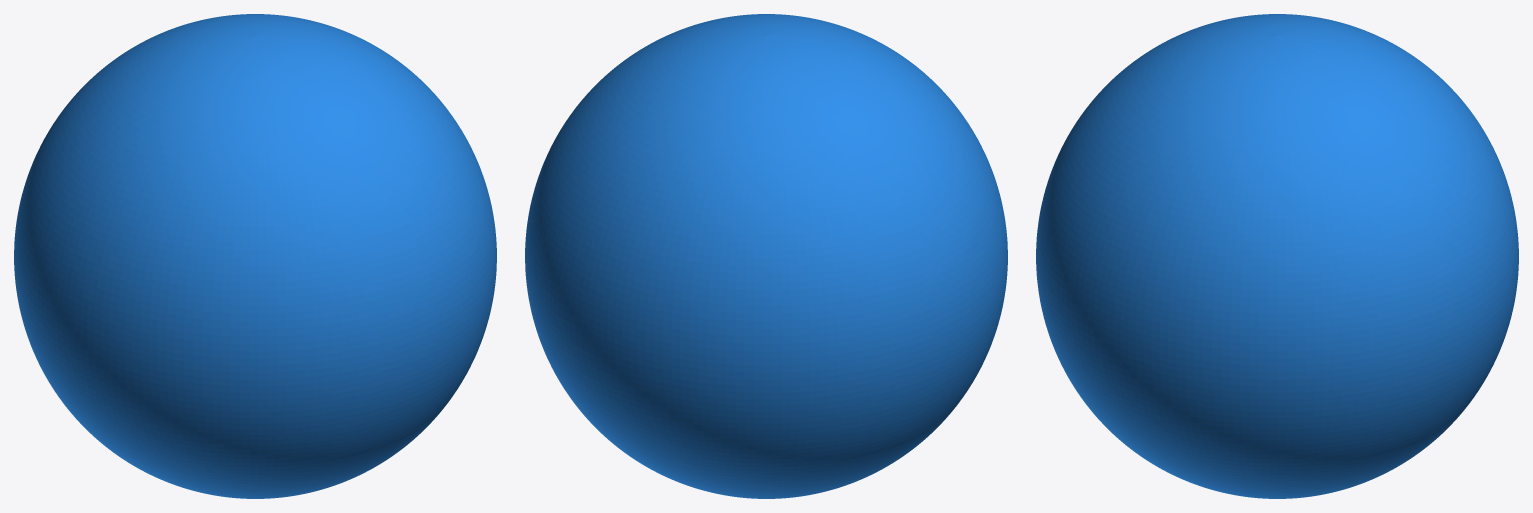
File: normalSphere2.fbx
The picture shows the model from 3 angles, left to right: view 1: azimuth 30°, elevation 25°; view 2: azimuth 150°, elevation 25°; view 3: azimuth 270°, elevation 25°; orthographic projection.
Parts seen in each view (by area): view 1: Sphere; view 2: Sphere; view 3: Sphere.
Boxes of the visible parts, x1,y1,x2,y2 form: Sphere: (14,14,496,498); Sphere: (525,14,1007,498); Sphere: (1036,14,1518,498).
Size of the model in its own units: 595 by 599 by 595.
